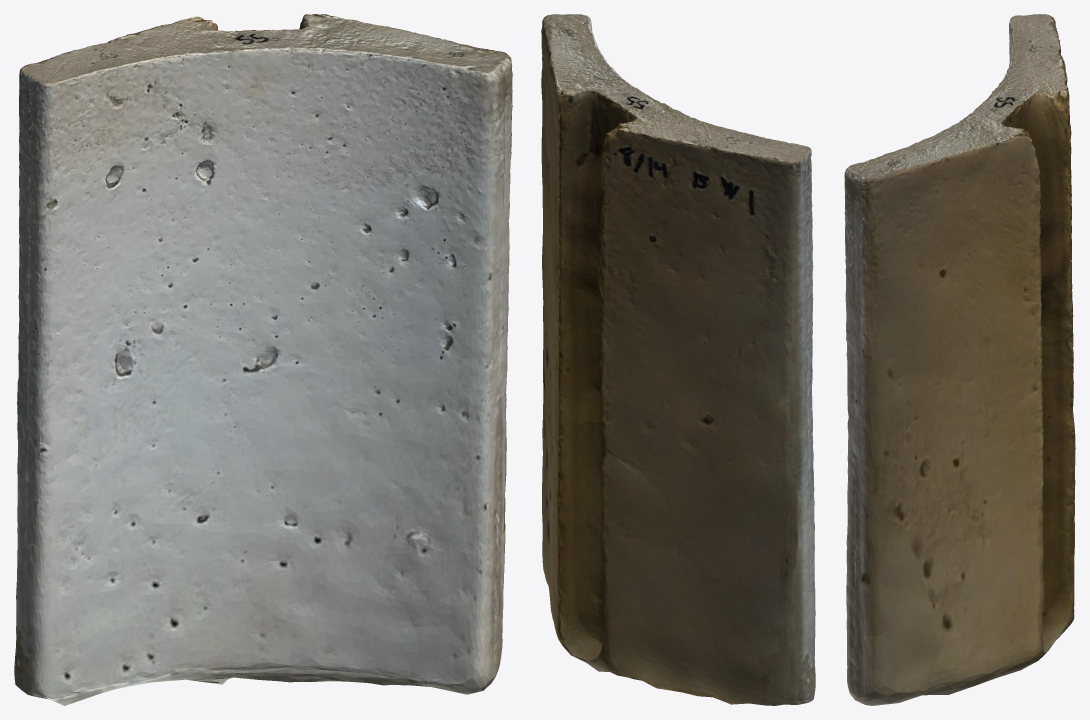
Rendered from Pixel 55.glb.
3 views of the same model, side by side, from view 1: azimuth 30°, elevation 25°; view 2: azimuth 150°, elevation 25°; view 3: azimuth 270°, elevation 25° (orthographic). The views are drawn at different scales.
Size of the model in its own units: 0.1664 by 0.2547 by 0.0972.
Materials: 1 (1 with a texture image).
